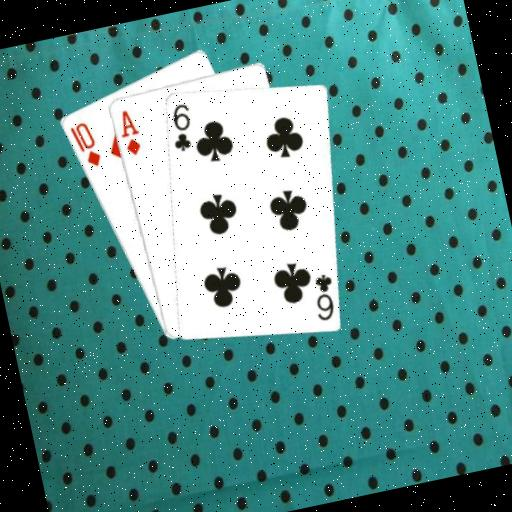10D: (65, 117, 103, 172)
6C: (162, 99, 199, 154), (305, 268, 340, 323)
AD: (113, 105, 145, 158)
